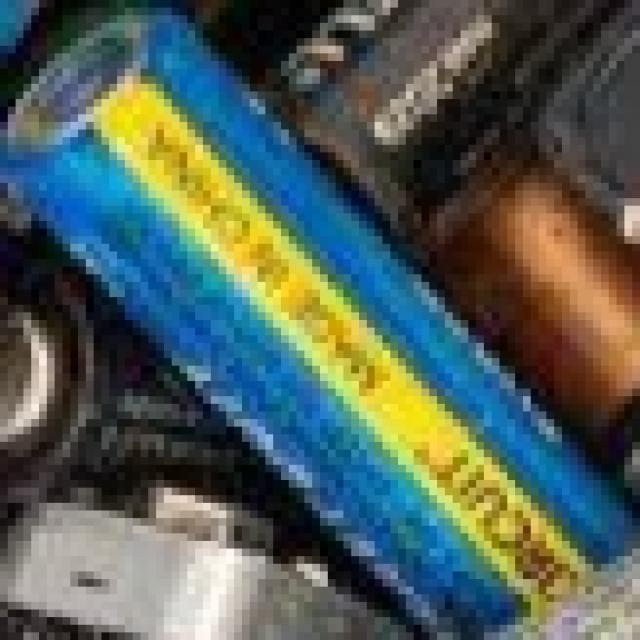battery: (20, 0, 640, 611)
